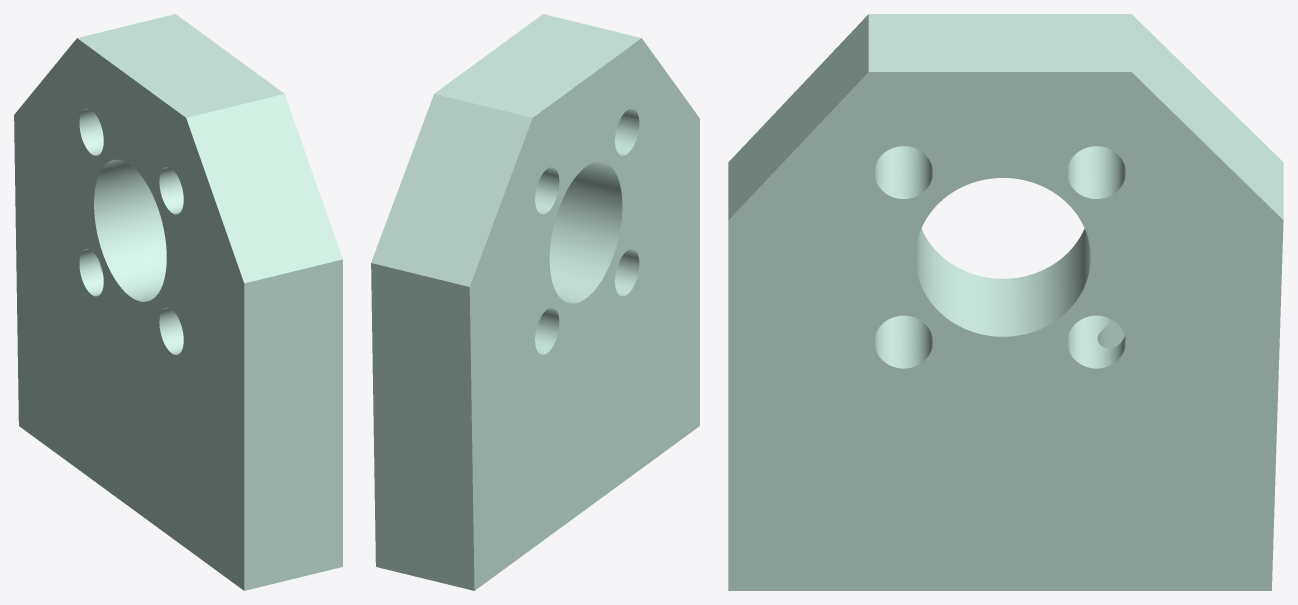
The picture shows the model from 3 angles, left to right: view 1: azimuth 30°, elevation 25°; view 2: azimuth 150°, elevation 25°; view 3: azimuth 270°, elevation 25°; orthographic projection. The views are drawn at different scales.
Visible parts, largest first — view 1: Renderer Node; view 2: Renderer Node; view 3: Renderer Node.
Boxes of the visible parts, x1=… form: Renderer Node: x1=14, y1=14, x2=342, y2=590; Renderer Node: x1=371, y1=14, x2=699, y2=590; Renderer Node: x1=728, y1=14, x2=1283, y2=590.
Bounding box in the file's own units: 0.1797 × 0.7495 × 0.7266.
